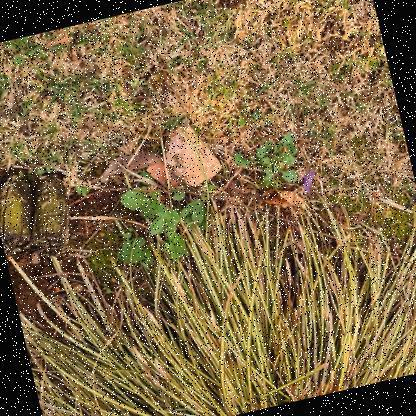Weeds: (101, 160, 219, 272), (231, 132, 306, 195)
